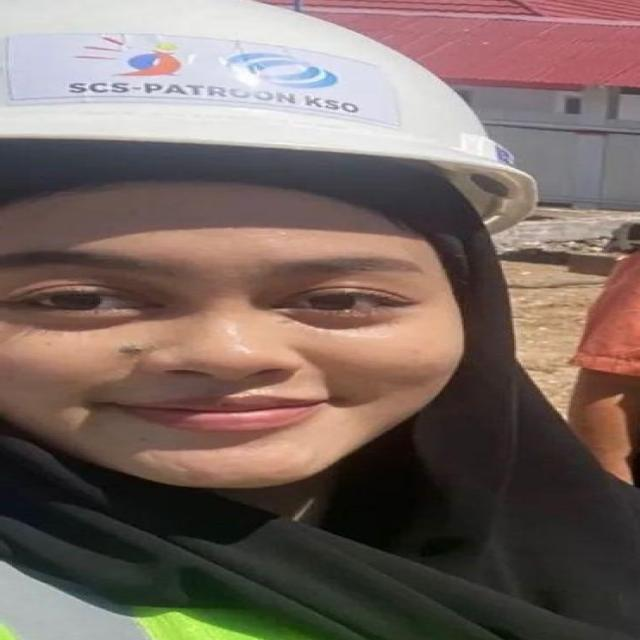safetyhelmet: (1, 0, 592, 498)
